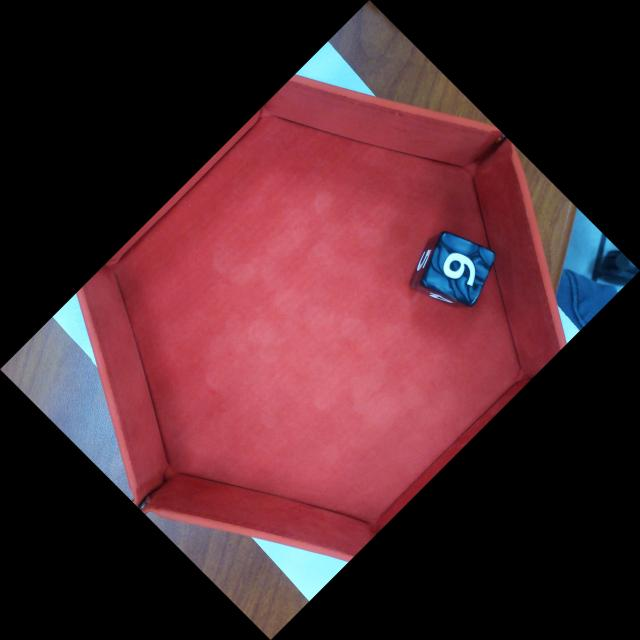dice: (424, 233, 496, 308)
